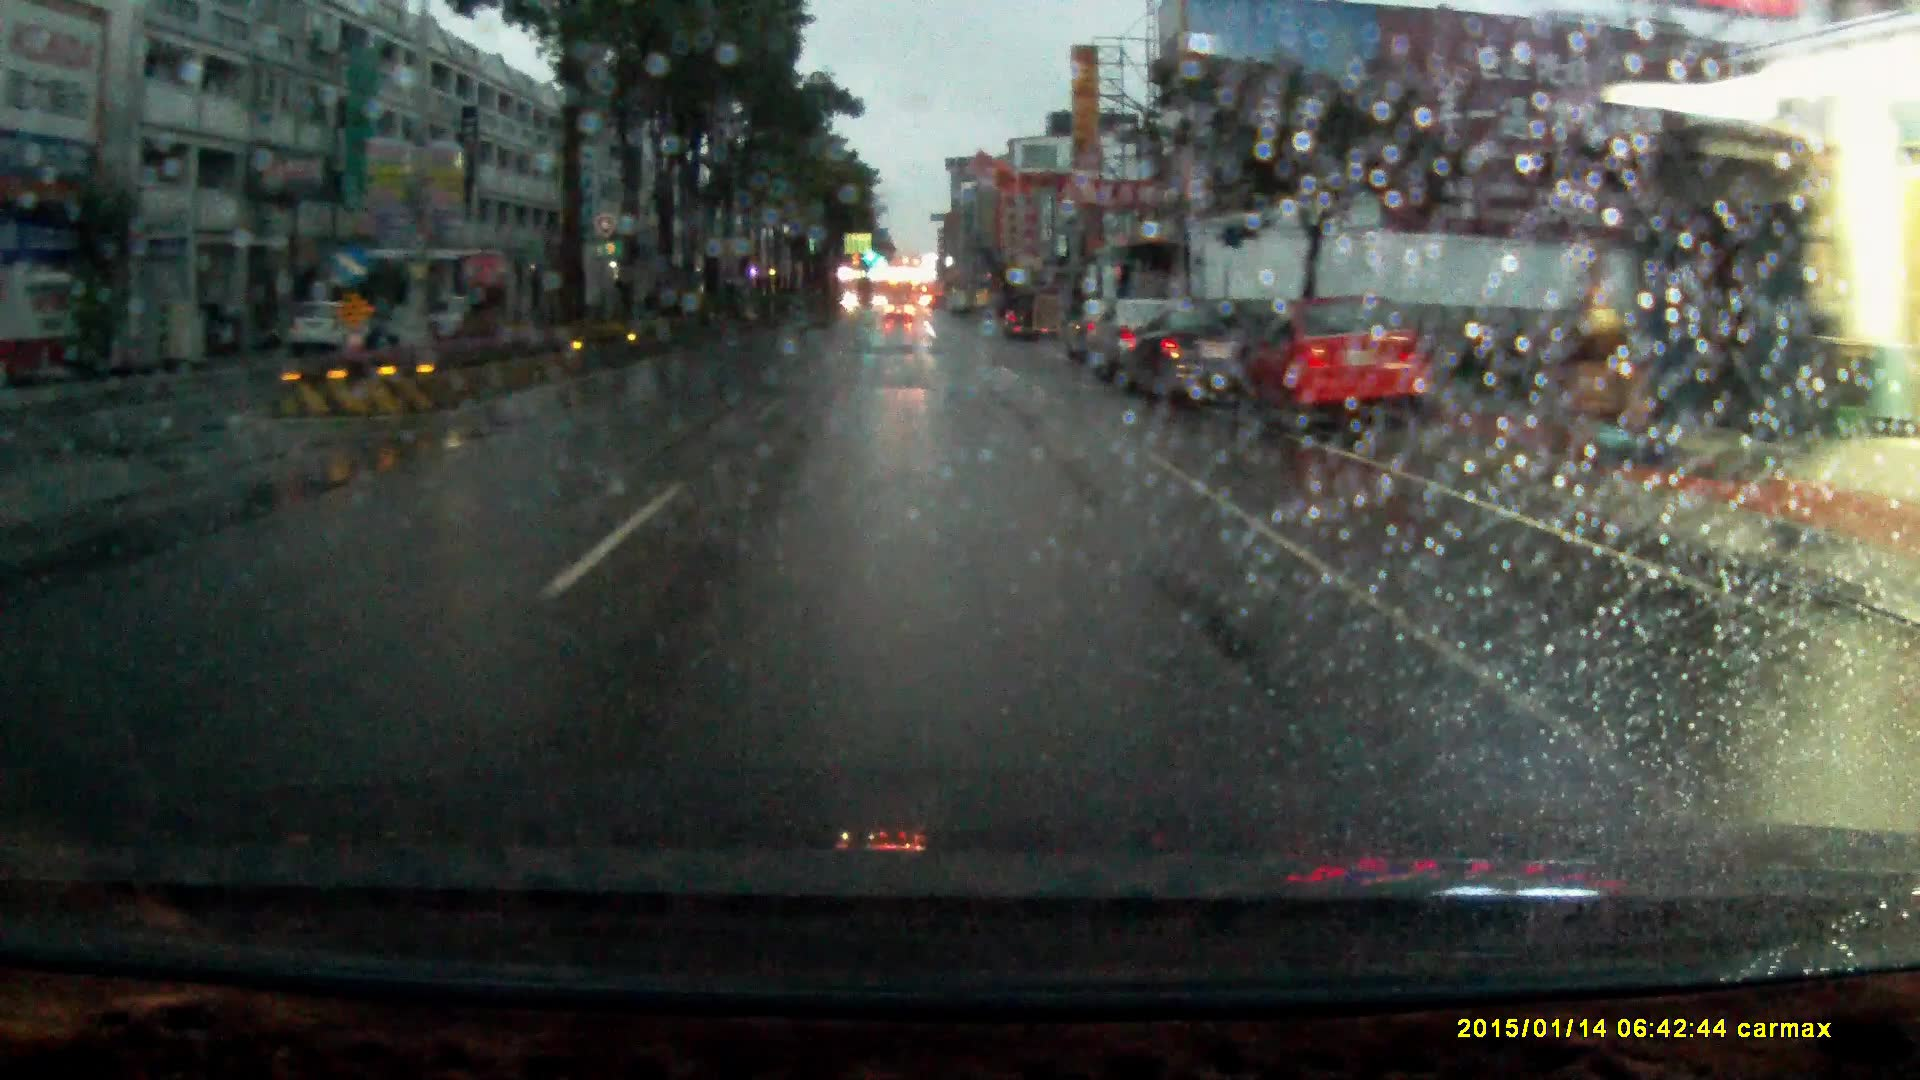vehicle: (1240, 301, 1437, 438), (1117, 301, 1262, 414), (1088, 301, 1178, 382), (410, 294, 510, 342), (291, 301, 371, 359), (997, 291, 1056, 345), (1064, 301, 1112, 361), (884, 297, 918, 326)
